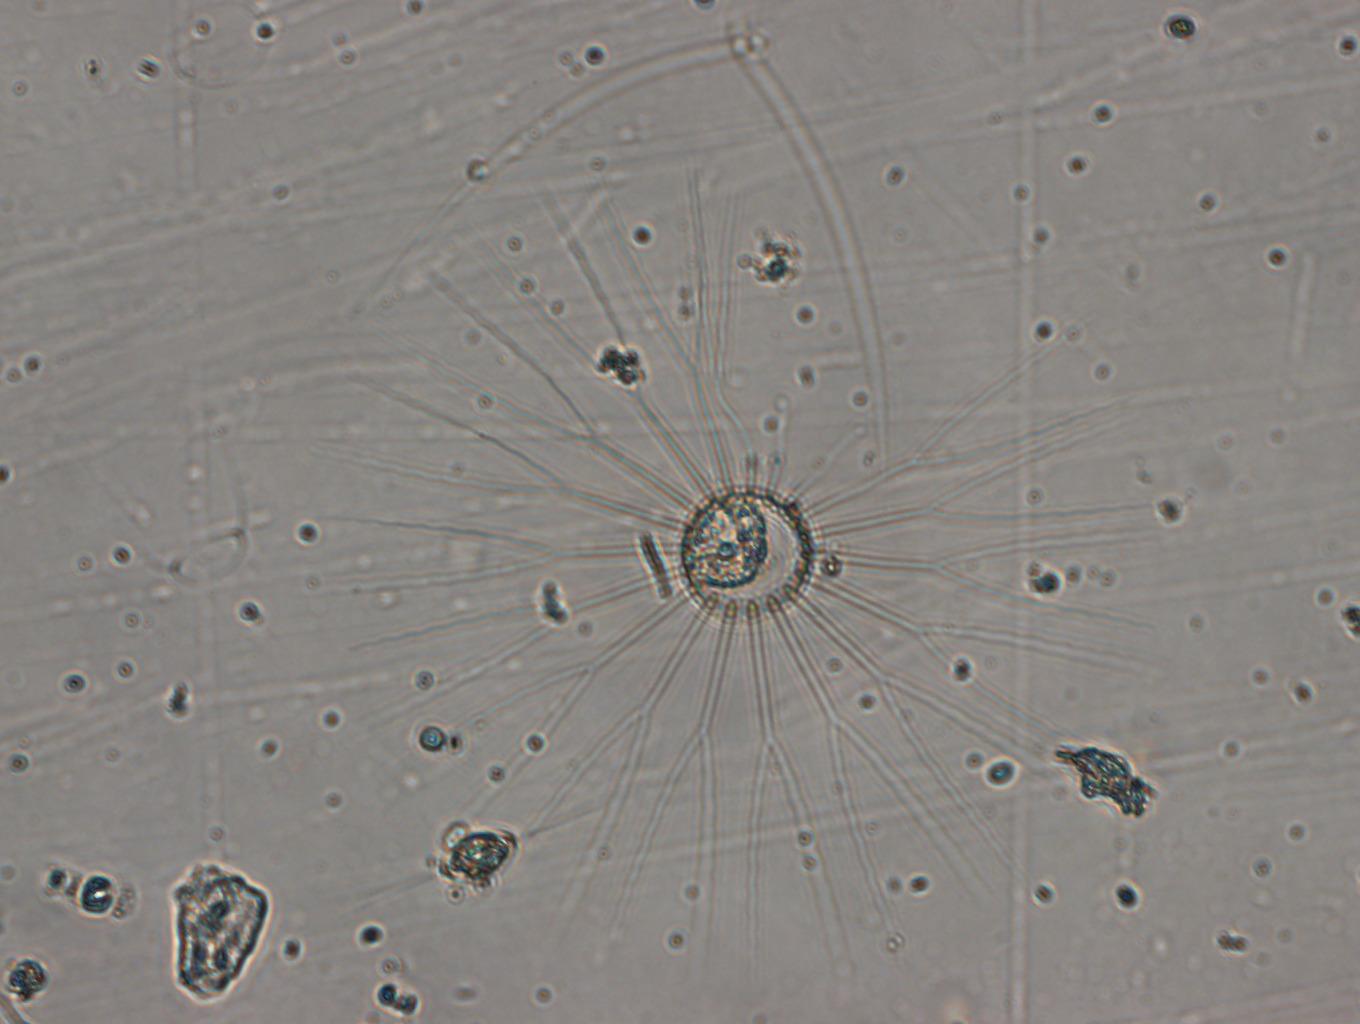bacteriastrum: (346, 191, 1147, 968)
